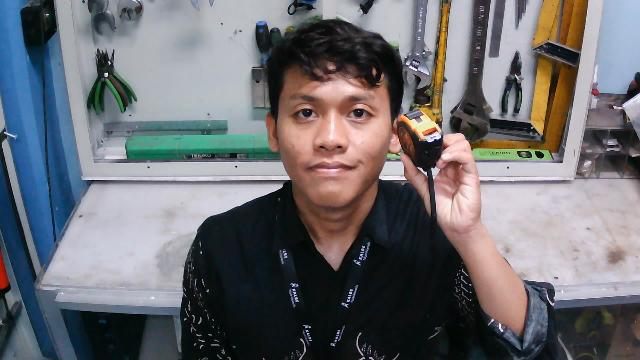meteran: (398, 106, 445, 220)
